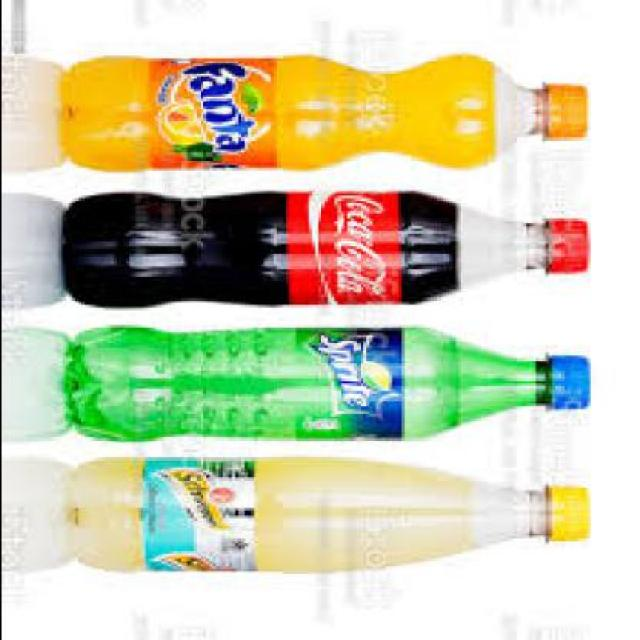PLASTIC: (64, 185, 591, 307), (64, 322, 591, 440), (64, 53, 588, 170), (71, 457, 592, 569), (150, 54, 282, 168), (288, 190, 403, 302), (147, 459, 259, 567), (299, 326, 406, 436), (540, 483, 592, 539), (544, 348, 591, 409), (541, 82, 588, 140), (544, 218, 591, 274)
